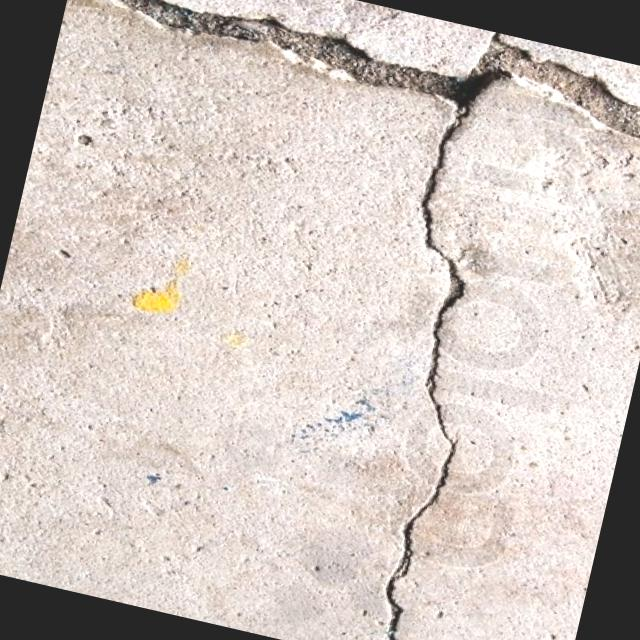crack: (312, 107, 534, 640)
spall: (64, 0, 640, 163)
